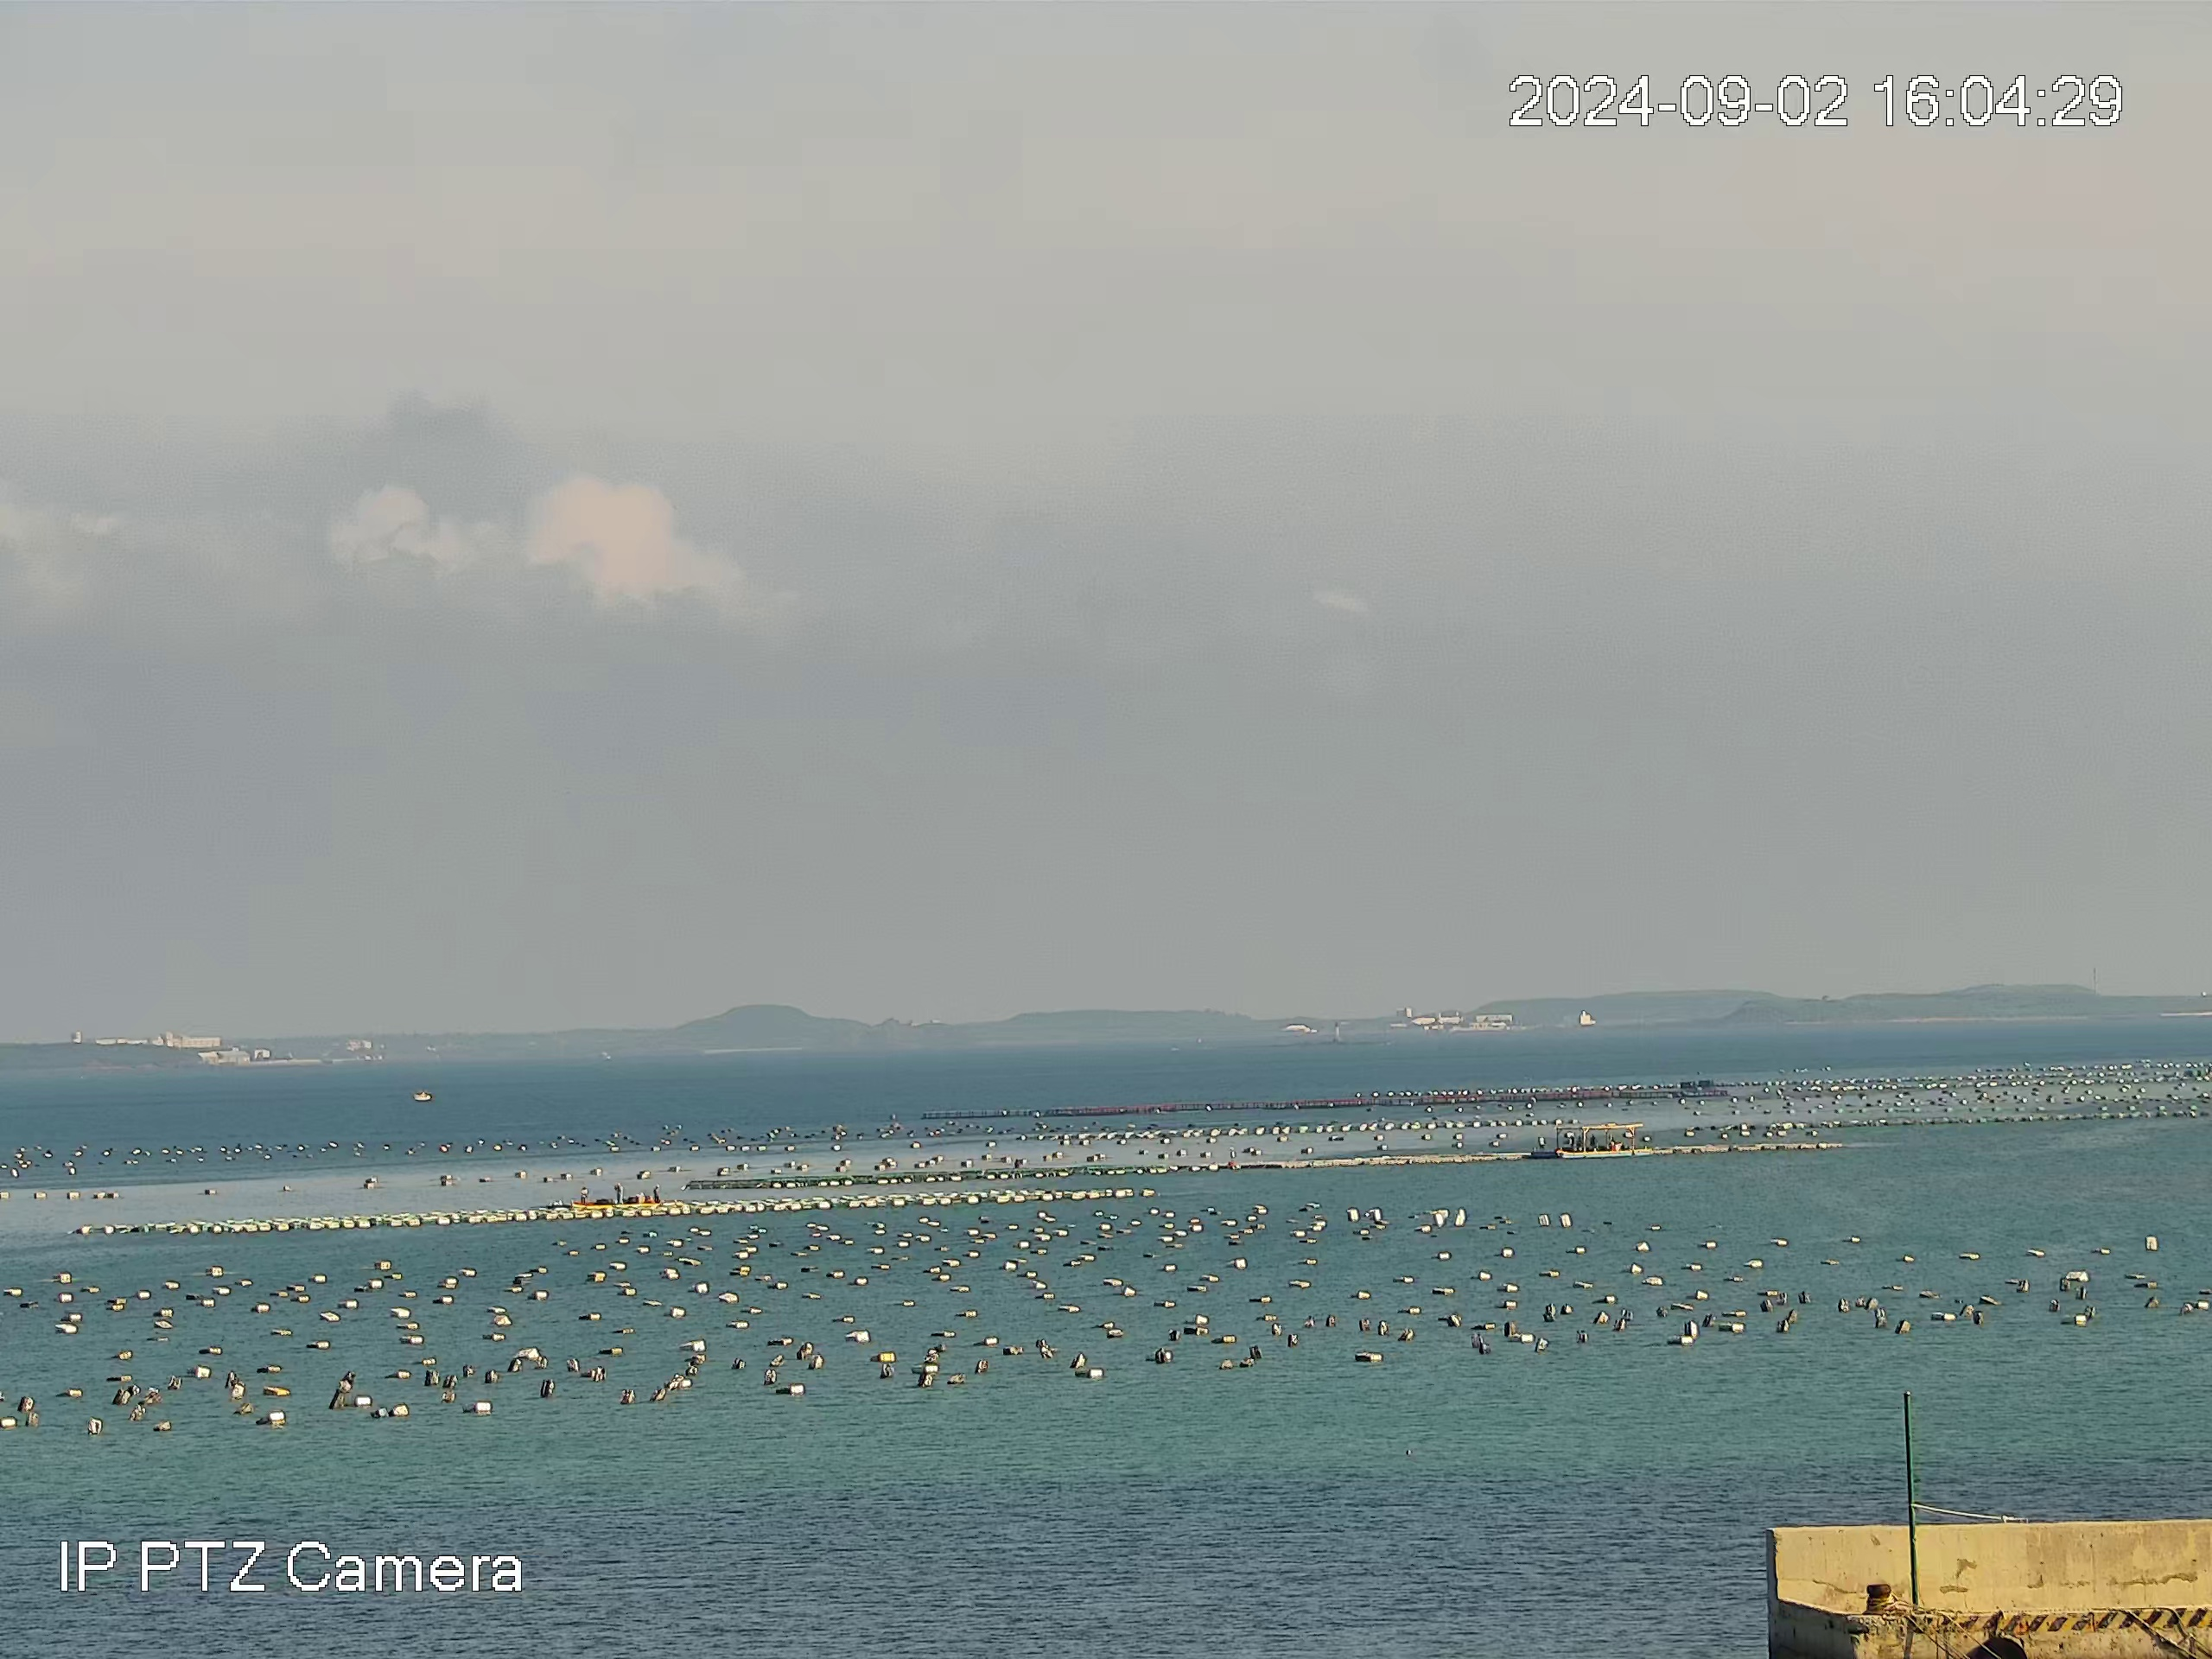boat: (1554, 1122, 1653, 1160), (569, 1182, 665, 1209), (411, 1090, 433, 1102)
